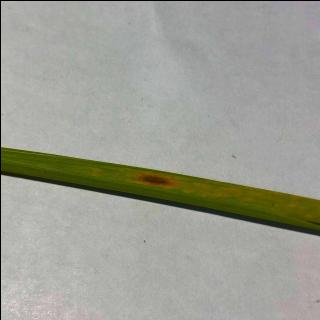bercak-Cokelat: (131, 170, 175, 192)
